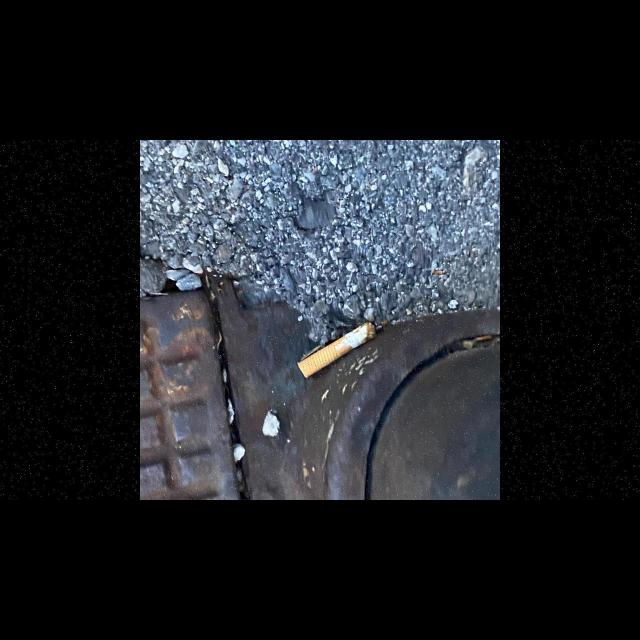cigarette: (296, 321, 377, 378)
